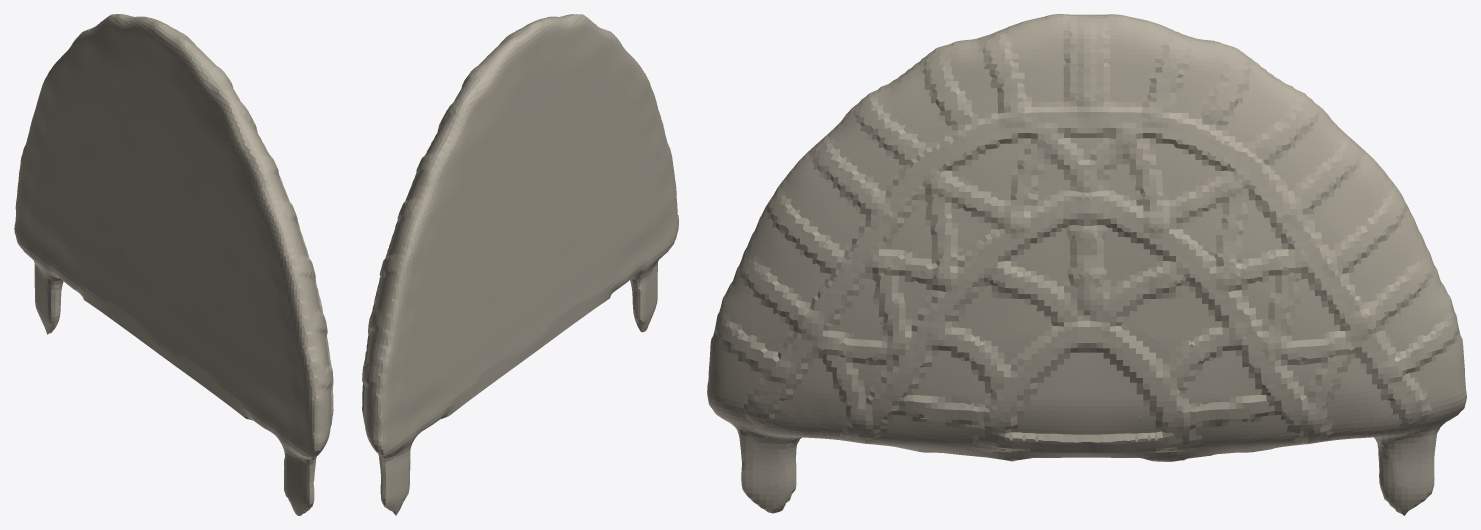
Rendered from Corona_Qhapaq.glb.
3 renders of one model, left to right at view 1: azimuth 30°, elevation 25°; view 2: azimuth 150°, elevation 25°; view 3: azimuth 270°, elevation 25°, orthographic. The views are drawn at different scales.
Visible parts, largest first — view 1: Sphere; view 2: Sphere; view 3: Sphere.
Part boxes in pixels (x1=…): Sphere: x1=14, y1=14, x2=333, y2=515; Sphere: x1=362, y1=14, x2=678, y2=515; Sphere: x1=707, y1=14, x2=1466, y2=515.
Size of the model in its own units: 0.1041 by 0.5177 by 0.7132.
